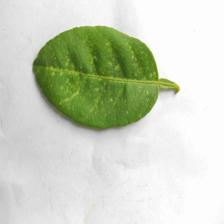greening: (33, 20, 162, 132)
